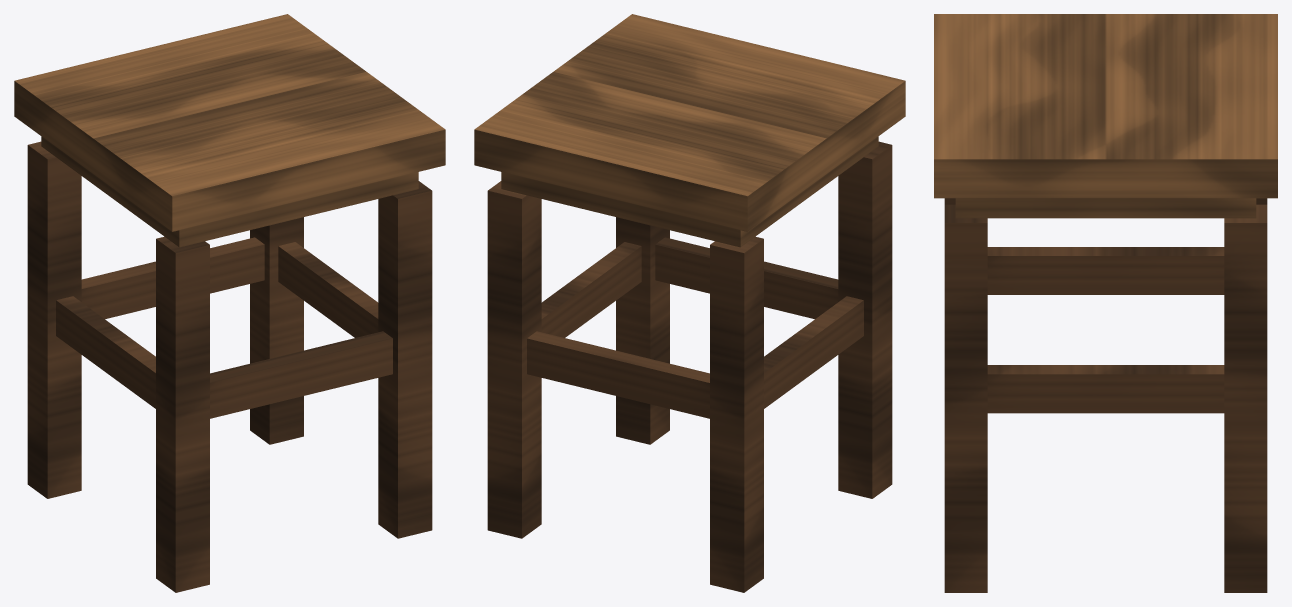
File: stool.fbx
3 views of the same model, side by side, from view 1: azimuth 30°, elevation 25°; view 2: azimuth 150°, elevation 25°; view 3: azimuth 270°, elevation 25° (orthographic). The views are drawn at different scales.
Visible parts, largest first — view 1: stool; view 2: stool; view 3: stool.
Part boxes in pixels (x1=…): stool: x1=14, y1=14, x2=445, y2=592; stool: x1=474, y1=14, x2=905, y2=592; stool: x1=934, y1=14, x2=1277, y2=592.
Bounding box in the file's own units: 32 × 45 × 32.
